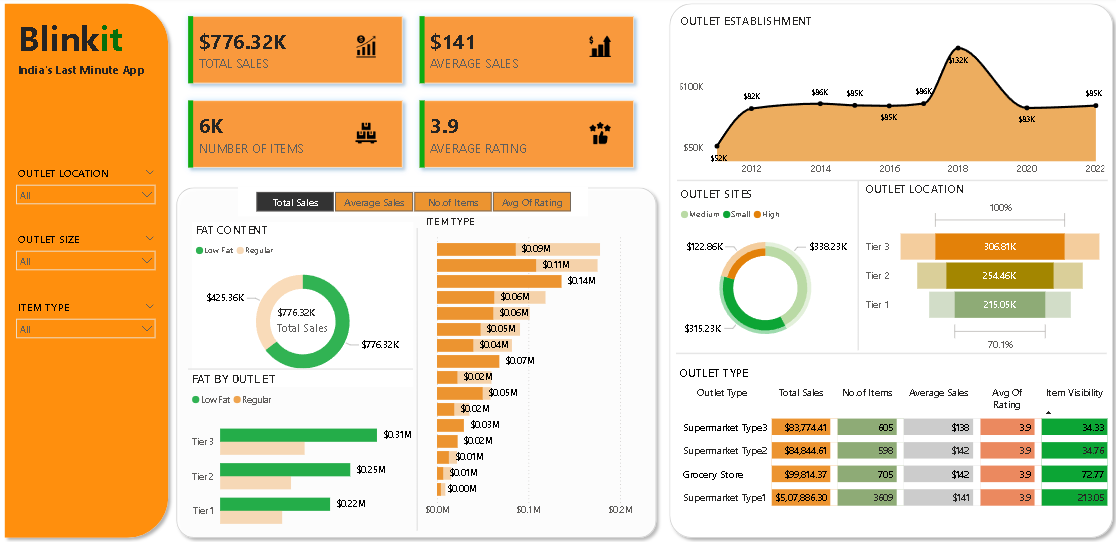

The dashboard page shown, as its layout file describes it:
{"tool":"powerbi","page":{"name":"Page 1","canvas":[1570,770],"ordinal":0},"visuals":[{"type":"shape","box":[0,0,247.5,766.1],"z":0},{"type":"textbox","box":[22,18.6,232.2,132.2],"z":1000},{"type":"textbox","box":[22,84.7,244.1,33.9],"z":2000},{"type":"cardVisual","fields":{"Data":["BlinkIT Grocery Data.Total Sales","BlinkIT Grocery Data.Average Sales","BlinkIT Grocery Data.No.of Items","BlinkIT Grocery Data.Avg Of Rating"]},"box":[249.2,10.2,659.3,247.5],"z":3000},{"type":"image","box":[498.3,52.5,33.9,32.2],"z":4000},{"type":"image","box":[825.4,174.6,33.9,30.5],"z":5000},{"type":"image","box":[498.3,174.6,33.9,30.5],"z":6000},{"type":"image","box":[825.4,52.5,33.9,32.2],"z":7000},{"type":"shape","box":[240.7,257.6,689.8,508.5],"z":8000},{"type":"donutChart","title":"FAT CONTENT","fields":{"Y":["BlinkIT Grocery Data.Total Sales"],"Category":["BlinkIT Grocery Data.Item Fat Content"]},"box":[271.2,315.3,310.2,230.5],"z":9000},{"type":"slicer","fields":{"Values":["Matrics.Matrics"]},"box":[335.6,266.1,489.8,40.7],"z":10000},{"type":"cardVisual","fields":{"Data":["BlinkIT Grocery Data.Total Sales"]},"box":[370,418.6,123.7,67.8],"z":11000},{"type":"clusteredBarChart","title":"FAT BY OUTLET","fields":{"Y":["BlinkIT Grocery Data.Total Sales"],"Category":["BlinkIT Grocery Data.Outlet Location Type"],"Series":["BlinkIT Grocery Data.Item Fat Content"]},"box":[266.1,525.4,320.3,239],"z":12000},{"type":"shape","box":[266.1,511.9,315.3,16.9],"z":13000},{"type":"shape","box":[581.4,323.7,11.9,423.7],"z":14000},{"type":"barChart","title":"ITEM TYPE","fields":{"Y":["BlinkIT Grocery Data.Total Sales"],"Category":["BlinkIT Grocery Data.Item Type"]},"box":[593.2,306.8,315.3,428.8],"z":15000},{"type":"shape","box":[930.5,0,639,766.1],"z":16000},{"type":"lineChart","title":"OUTLET ESTABLISHMENT","fields":{"Y":["BlinkIT Grocery Data.Total Sales"],"Category":["BlinkIT Grocery Data.Outlet Establishment Year"]},"box":[950.8,22,603.4,235.6],"z":17000},{"type":"shape","box":[950.8,249.2,603.4,15.3],"z":18000},{"type":"donutChart","title":"OUTLET SITES","fields":{"Y":["BlinkIT Grocery Data.Total Sales"],"Category":["BlinkIT Grocery Data.Outlet Size"]},"box":[950.8,264.4,247.5,237.3],"z":19000},{"type":"shape","box":[1198.3,257.6,11.9,237.3],"z":20000},{"type":"funnel","title":"OUTLET LOCATION","fields":{"Y":["Sum(BlinkIT Grocery Data.Sales)"],"Category":["BlinkIT Grocery Data.Outlet Location Type"]},"box":[1210.2,257.6,342.4,244.1],"z":21000},{"type":"pivotTable","title":"OUTLET TYPE","fields":{"Rows":["BlinkIT Grocery Data.Outlet Type"],"Values":["BlinkIT Grocery Data.Total Sales","BlinkIT Grocery Data.No.of Items","BlinkIT Grocery Data.Average Sales","BlinkIT Grocery Data.Avg Of Rating","Sum(BlinkIT Grocery Data.Item Visibility)"]},"box":[949.2,515.3,620.3,228.8],"z":22000},{"type":"shape","box":[949.2,494.9,603.4,6.8],"z":23000},{"type":"slicer","fields":{"Values":["BlinkIT Grocery Data.Outlet Location Type"]},"box":[15.3,230.5,215.3,67.8],"z":24000},{"type":"slicer","fields":{"Values":["BlinkIT Grocery Data.Outlet Size"]},"box":[15.3,323.7,215.3,66.1],"z":25000},{"type":"slicer","fields":{"Values":["BlinkIT Grocery Data.Item Type"]},"box":[15.3,418.6,215.3,67.8],"z":26000}]}

Visuals, with their boxes in screenshot pixels (x1, y1, x2, y2), scaled from the page's 1570x770 canvas onto the 1116x542 screenshot:
shape: (x1=0, y1=0, x2=176, y2=539)
textbox: (x1=16, y1=13, x2=181, y2=106)
textbox: (x1=16, y1=60, x2=189, y2=83)
cardVisual - BlinkIT Grocery Data.Total Sales x BlinkIT Grocery Data.Average Sales: (x1=177, y1=7, x2=646, y2=181)
image: (x1=354, y1=37, x2=378, y2=60)
image: (x1=587, y1=123, x2=611, y2=144)
image: (x1=354, y1=123, x2=378, y2=144)
image: (x1=587, y1=37, x2=611, y2=60)
shape: (x1=171, y1=181, x2=661, y2=539)
"FAT CONTENT" donutChart: (x1=193, y1=222, x2=413, y2=384)
slicer - Matrics.Matrics: (x1=239, y1=187, x2=587, y2=216)
cardVisual - BlinkIT Grocery Data.Total Sales: (x1=263, y1=295, x2=351, y2=342)
"FAT BY OUTLET" clusteredBarChart: (x1=189, y1=370, x2=417, y2=538)
shape: (x1=189, y1=360, x2=413, y2=372)
shape: (x1=413, y1=228, x2=422, y2=526)
"ITEM TYPE" barChart: (x1=422, y1=216, x2=646, y2=518)
shape: (x1=661, y1=0, x2=1115, y2=539)
"OUTLET ESTABLISHMENT" lineChart: (x1=676, y1=15, x2=1105, y2=181)
shape: (x1=676, y1=175, x2=1105, y2=186)
"OUTLET SITES" donutChart: (x1=676, y1=186, x2=852, y2=353)
shape: (x1=852, y1=181, x2=860, y2=348)
"OUTLET LOCATION" funnel: (x1=860, y1=181, x2=1104, y2=353)
"OUTLET TYPE" pivotTable: (x1=675, y1=363, x2=1115, y2=524)
shape: (x1=675, y1=348, x2=1104, y2=353)
slicer - BlinkIT Grocery Data.Outlet Location Type: (x1=11, y1=162, x2=164, y2=210)
slicer - BlinkIT Grocery Data.Outlet Size: (x1=11, y1=228, x2=164, y2=274)
slicer - BlinkIT Grocery Data.Item Type: (x1=11, y1=295, x2=164, y2=342)
